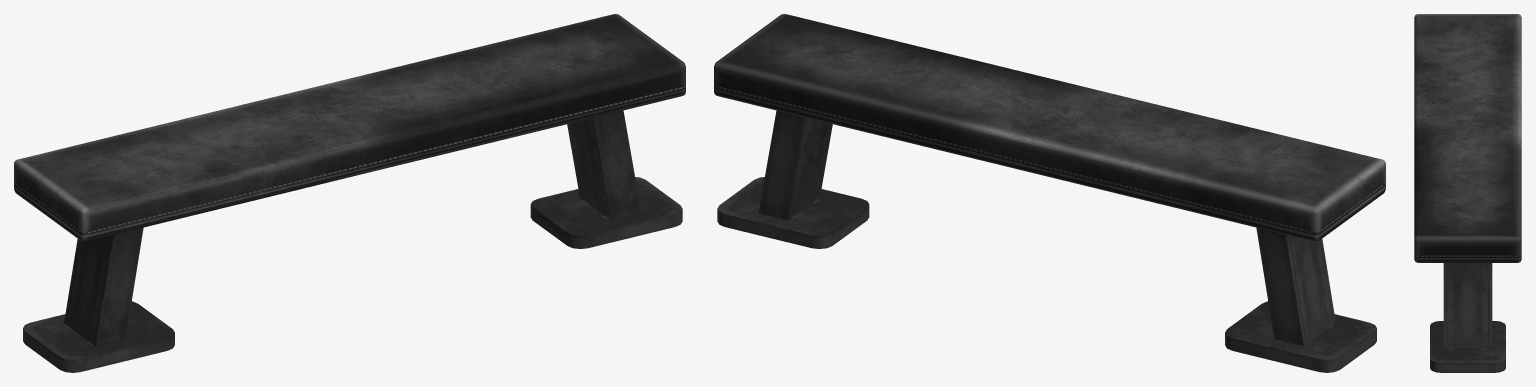
Rendered from MB_Barbell_Bench.fbx.
The picture shows the model from 3 angles, left to right: view 1: azimuth 30°, elevation 25°; view 2: azimuth 150°, elevation 25°; view 3: azimuth 270°, elevation 25°; orthographic projection. The views are drawn at different scales.
Visible parts, largest first — view 1: MB_Barbell_Bench_LOD0; view 2: MB_Barbell_Bench_LOD0; view 3: MB_Barbell_Bench_LOD0.
Boxes of the visible parts, <box> form: MB_Barbell_Bench_LOD0: <box>14,14,685,372</box>; MB_Barbell_Bench_LOD0: <box>714,14,1385,372</box>; MB_Barbell_Bench_LOD0: <box>1414,14,1521,372</box>.
Size of what is drawn, in the model's own units: 220 by 57.83 by 43.03.
